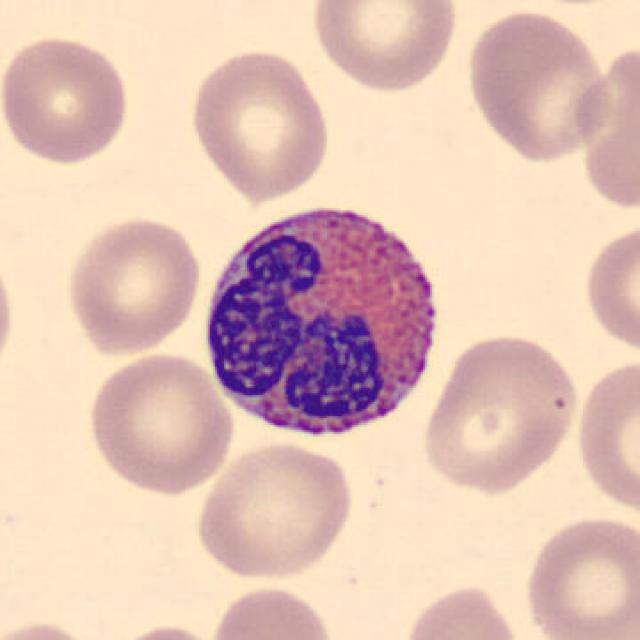Eosinophil: (196, 187, 452, 457)
RBC: (418, 330, 581, 495), (460, 7, 617, 164), (190, 437, 358, 582), (185, 44, 334, 203), (84, 349, 238, 497), (60, 211, 204, 358), (0, 31, 135, 168), (519, 511, 640, 640), (306, 0, 462, 95), (570, 38, 640, 213), (572, 353, 640, 520), (580, 217, 638, 360), (400, 580, 528, 640), (206, 582, 338, 640), (0, 242, 20, 384), (0, 615, 108, 639), (101, 620, 227, 640)
